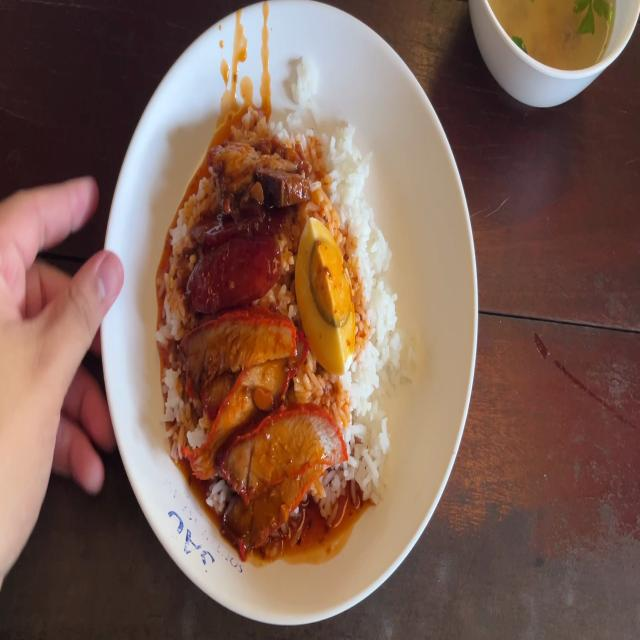01boiled_egg: (306, 217, 354, 367)
01chainese_sausage: (188, 208, 284, 302)
01crispy_pork: (220, 140, 307, 208)
01red_pork: (187, 312, 302, 544), (299, 400, 345, 489)
01red_pork_and_crispy_pork: (181, 124, 402, 508)
01rice: (356, 219, 396, 393), (308, 122, 374, 214), (347, 381, 388, 497)
